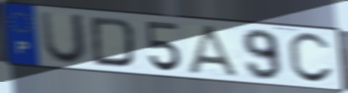5: (144, 20, 183, 74)
9: (240, 27, 285, 82)
A: (185, 24, 245, 80)
C: (285, 31, 336, 86)
D: (89, 15, 139, 70)
U: (38, 9, 89, 67)
